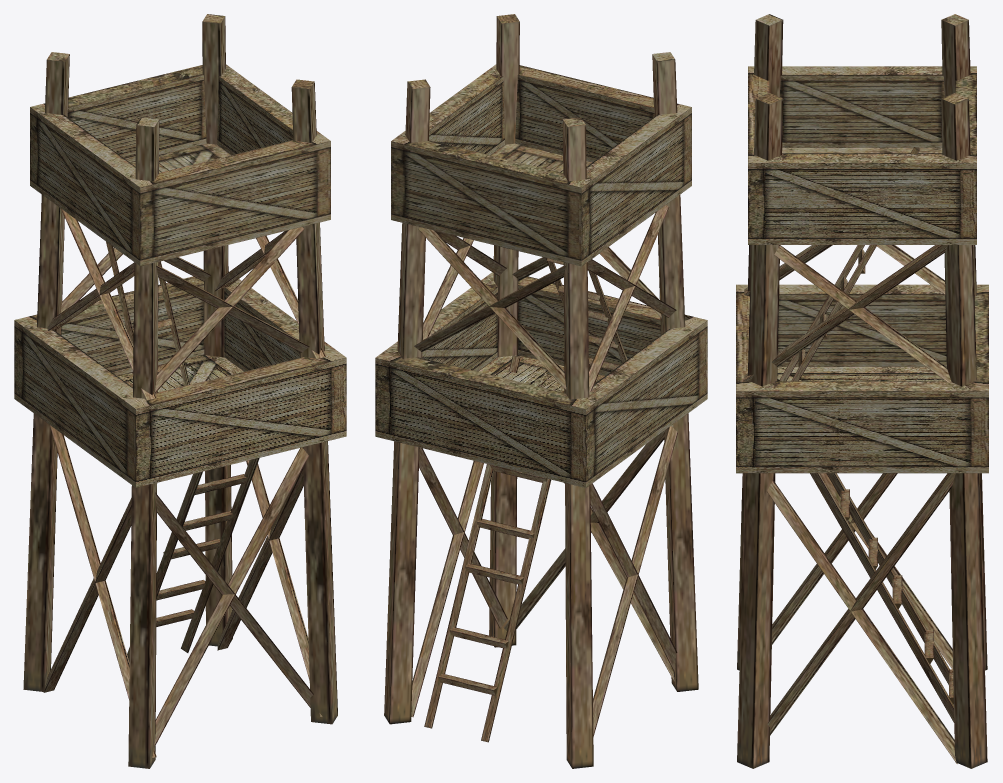
Rendered from rome_siege_tower.dae.
3 renders of one model, left to right at view 1: azimuth 30°, elevation 25°; view 2: azimuth 150°, elevation 25°; view 3: azimuth 270°, elevation 25°, orthographic. The views are drawn at different scales.
Parts seen in each view (by area): view 1: Line02; view 2: Line02; view 3: Line02.
Part boxes in pixels (x1,y1,x2,y2): Line02: [14, 14, 346, 768]; Line02: [375, 14, 707, 768]; Line02: [736, 14, 988, 768].
Size of the model in its own units: 5.66 by 5.66 by 16.27.
